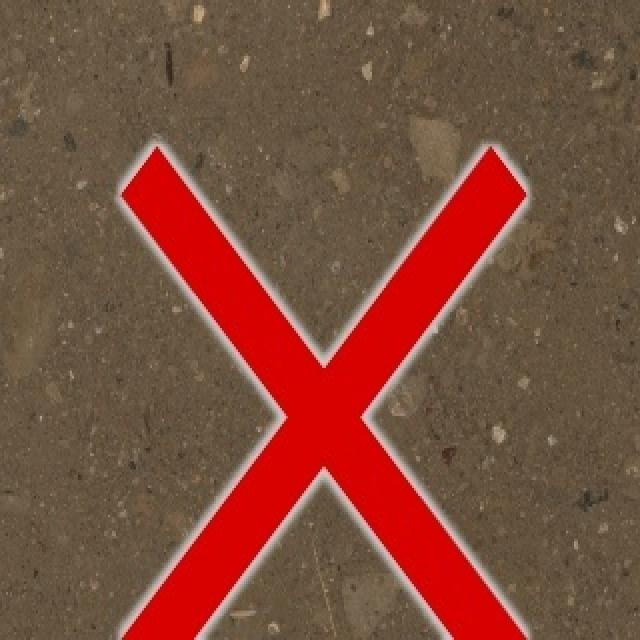x_marker: (121, 145, 525, 639)
